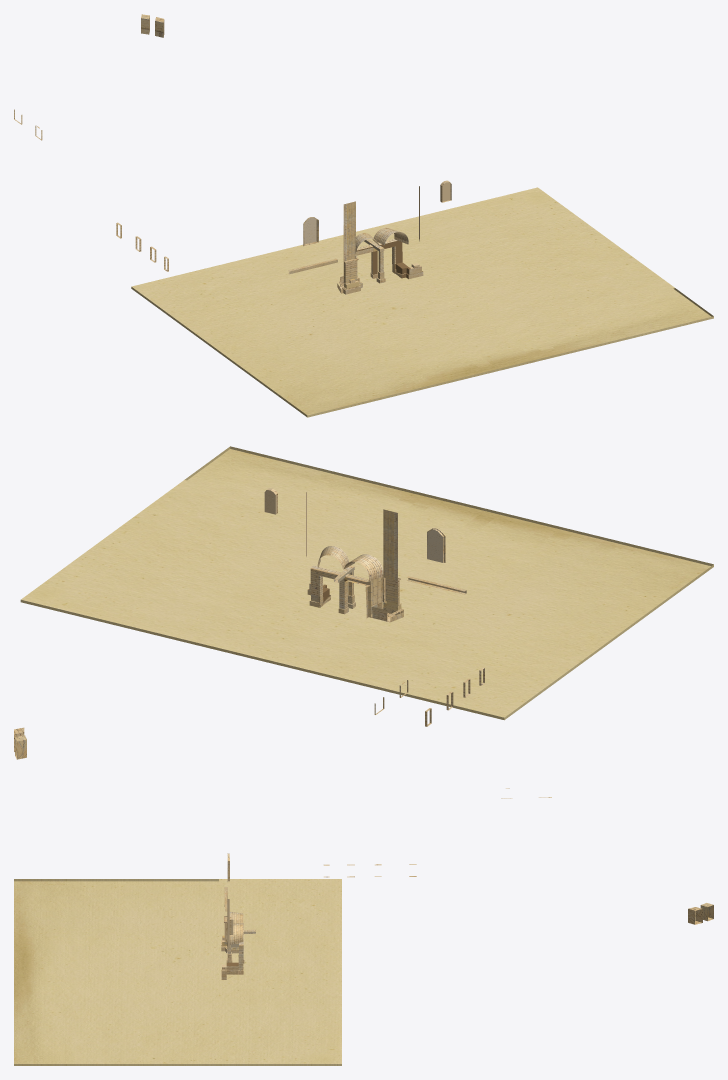
The model's file is catedral5bx.fbx.
3 renders of one model, top to bottom at view 1: azimuth 30°, elevation 25°; view 2: azimuth 150°, elevation 25°; view 3: azimuth 270°, elevation 25°, orthographic. The views are drawn at different scales.
Visible parts, largest first — view 1: Plane.002, Cube.023, Cube.059, Cube.071, Cube.027; view 2: Plane.002, Cube.023, Cube.071, Cube.027, Cube.059; view 3: Plane.002, Cube.023, Cube.071.
Part boxes in pixels (x1,y1,x2,y2): Plane.002: (131, 187, 713, 417); Cube.023: (337, 186, 423, 294); Cube.059: (141, 18, 450, 244); Cube.071: (14, 14, 451, 271); Cube.027: (339, 201, 355, 289); Plane.002: (20, 446, 713, 720); Cube.023: (306, 492, 403, 622); Cube.071: (14, 488, 484, 759); Cube.027: (371, 509, 397, 622); Cube.059: (264, 489, 442, 562); Plane.002: (14, 879, 341, 1065); Cube.023: (221, 899, 255, 979); Cube.071: (227, 788, 713, 934).
Size of the model in its own units: 19344 by 4393 by 30622.
